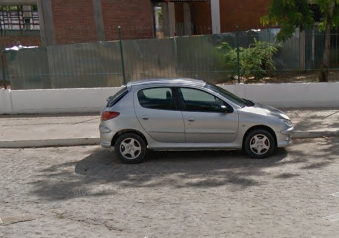car: (96, 75, 297, 167)
